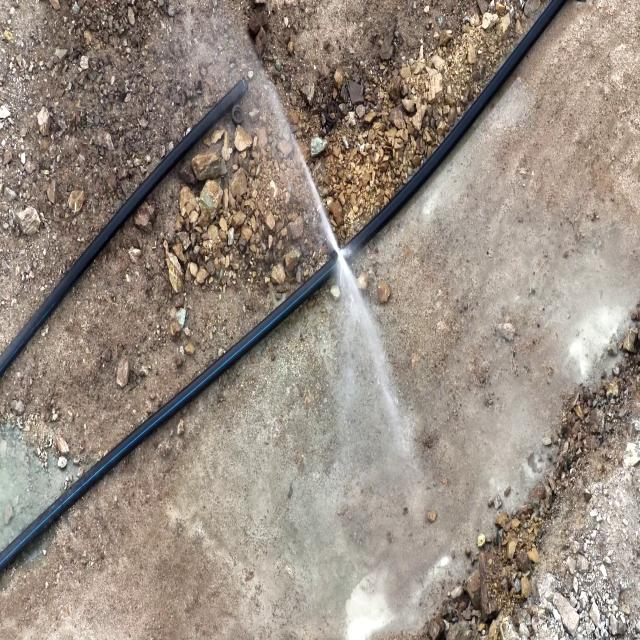leak: (268, 88, 390, 392)
